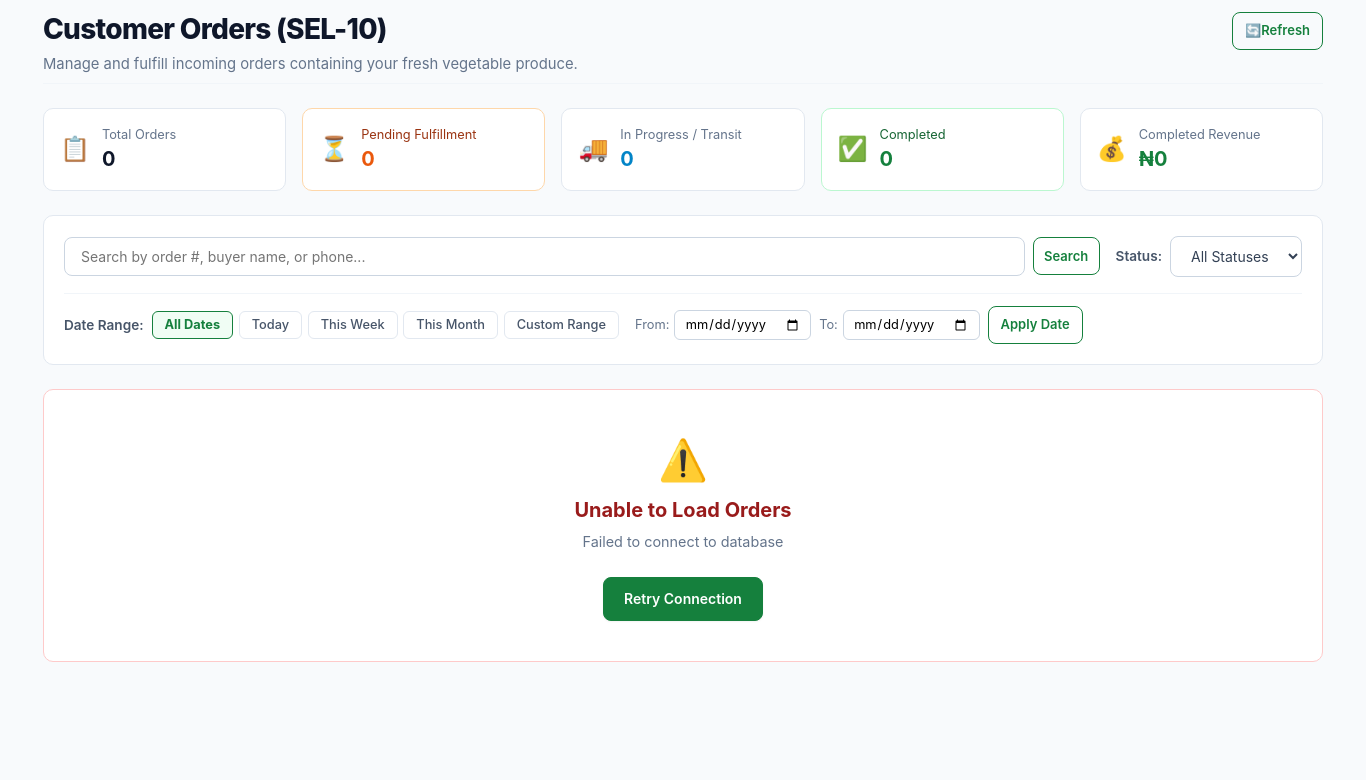
it: FE-090 / SEL-10: Seller Orders List › 8. Empty States & Error Handling › displays error state with retry button when initial fetch fails
Expected: the element with test id "seller-orders-error-state" is shown, x1=43 y1=389 x2=1323 y2=662
Expected: the heading "Unable to Load Orders" is shown, x1=574 y1=498 x2=792 y2=522
Click the button with test id "seller-orders-retry-btn". click: [683, 599]
box: x1=603 y1=577 x2=763 y2=621
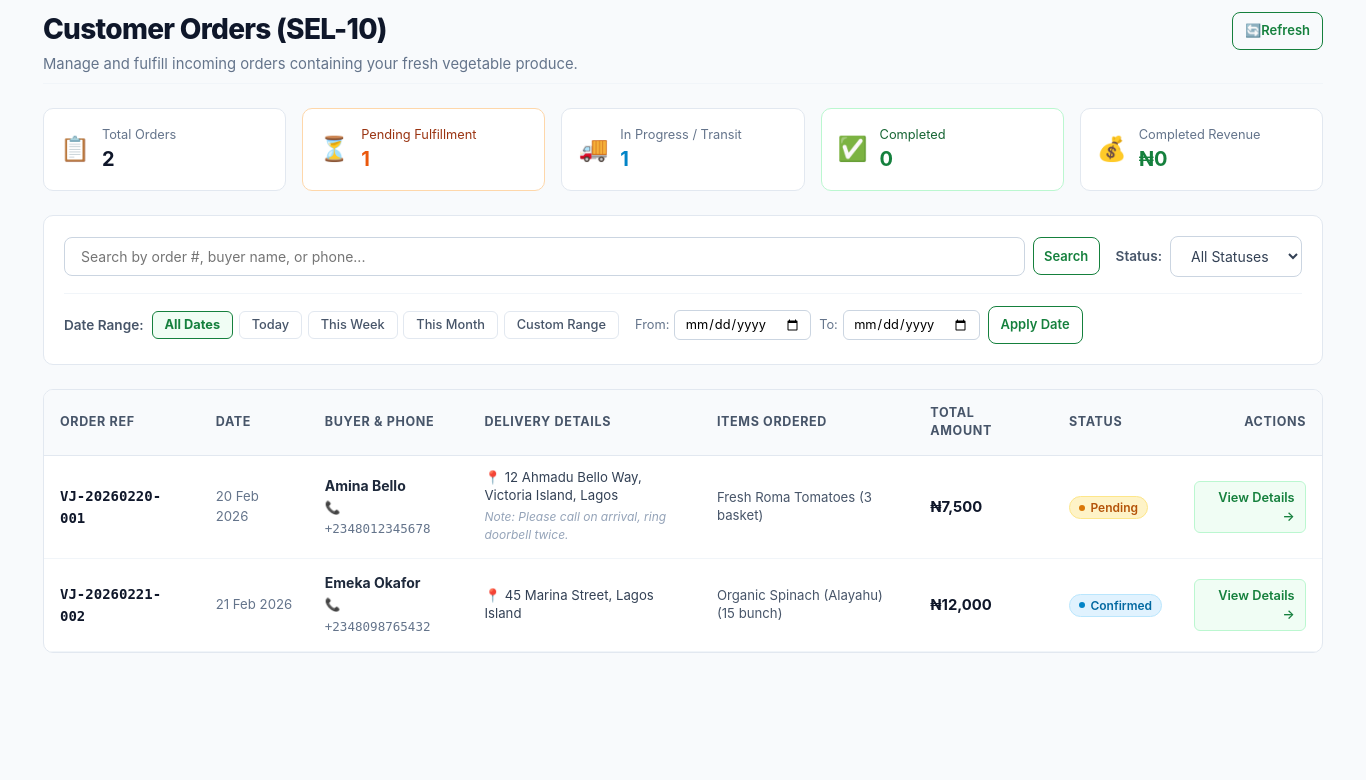
Expected: the table with test id "seller-orders-table" is shown, x1=44 y1=390 x2=1322 y2=652
